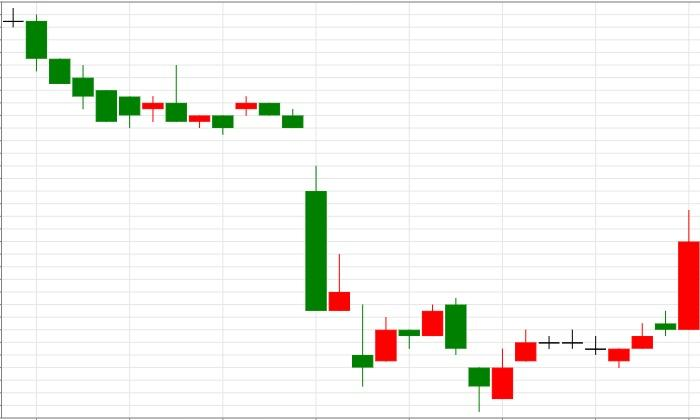bearish_engulfing_fall: (351, 298, 467, 387)
